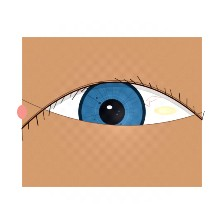pinguecula_lesion: (142, 92, 188, 129)
